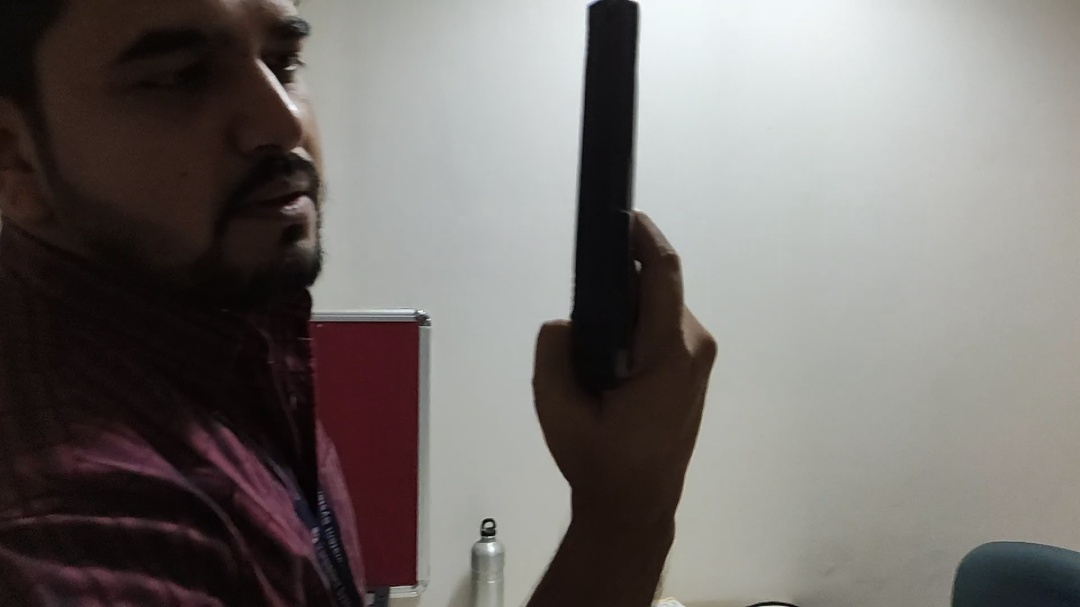gun: (548, 4, 719, 400)
